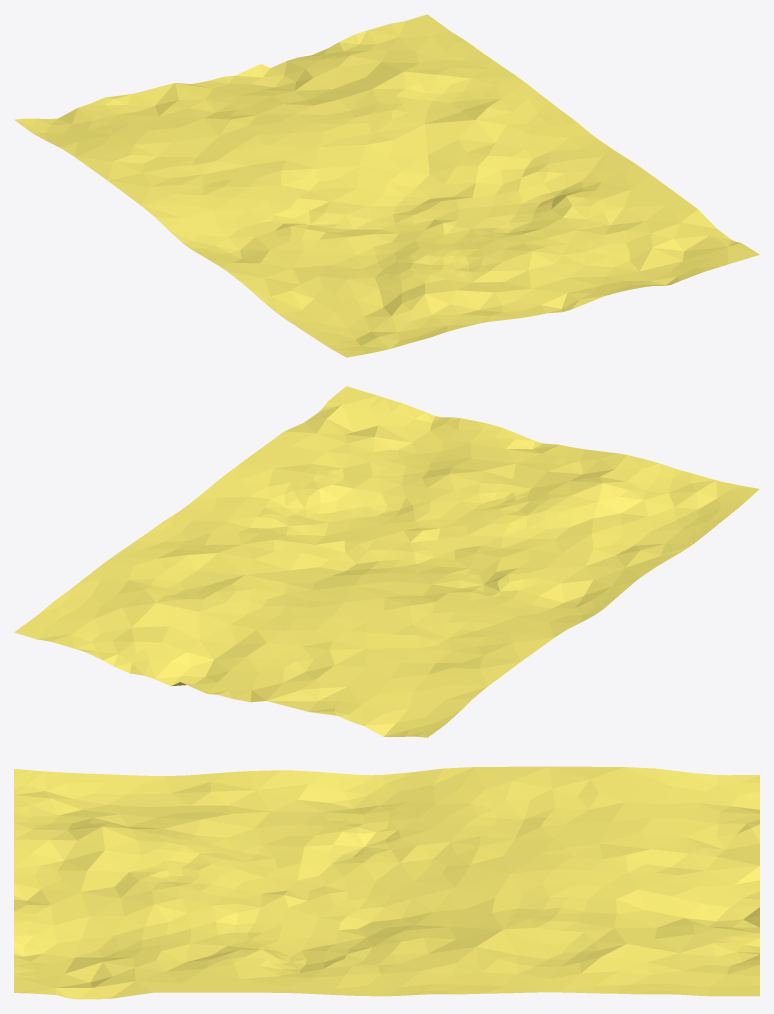
The model's file is ground_037.fbx.
3 views of the same model, one above another, from view 1: azimuth 30°, elevation 25°; view 2: azimuth 150°, elevation 25°; view 3: azimuth 270°, elevation 25° (orthographic). The views are drawn at different scales.
Visible parts, largest first — view 1: ground.037; view 2: ground.037; view 3: ground.037.
Part boxes in pixels (x1,y1,x2,y2): ground.037: [14, 14, 759, 357]; ground.037: [14, 386, 759, 737]; ground.037: [14, 766, 759, 999].
Size of the model in its own units: 2542 by 140 by 3540.
Materials: 1 (1 with a texture image).
